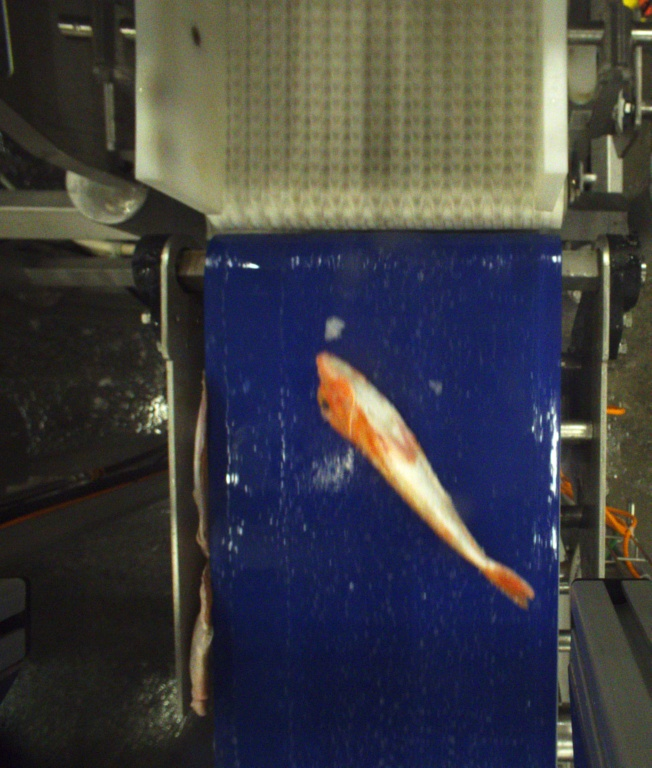GUU: (314, 351, 535, 605)
